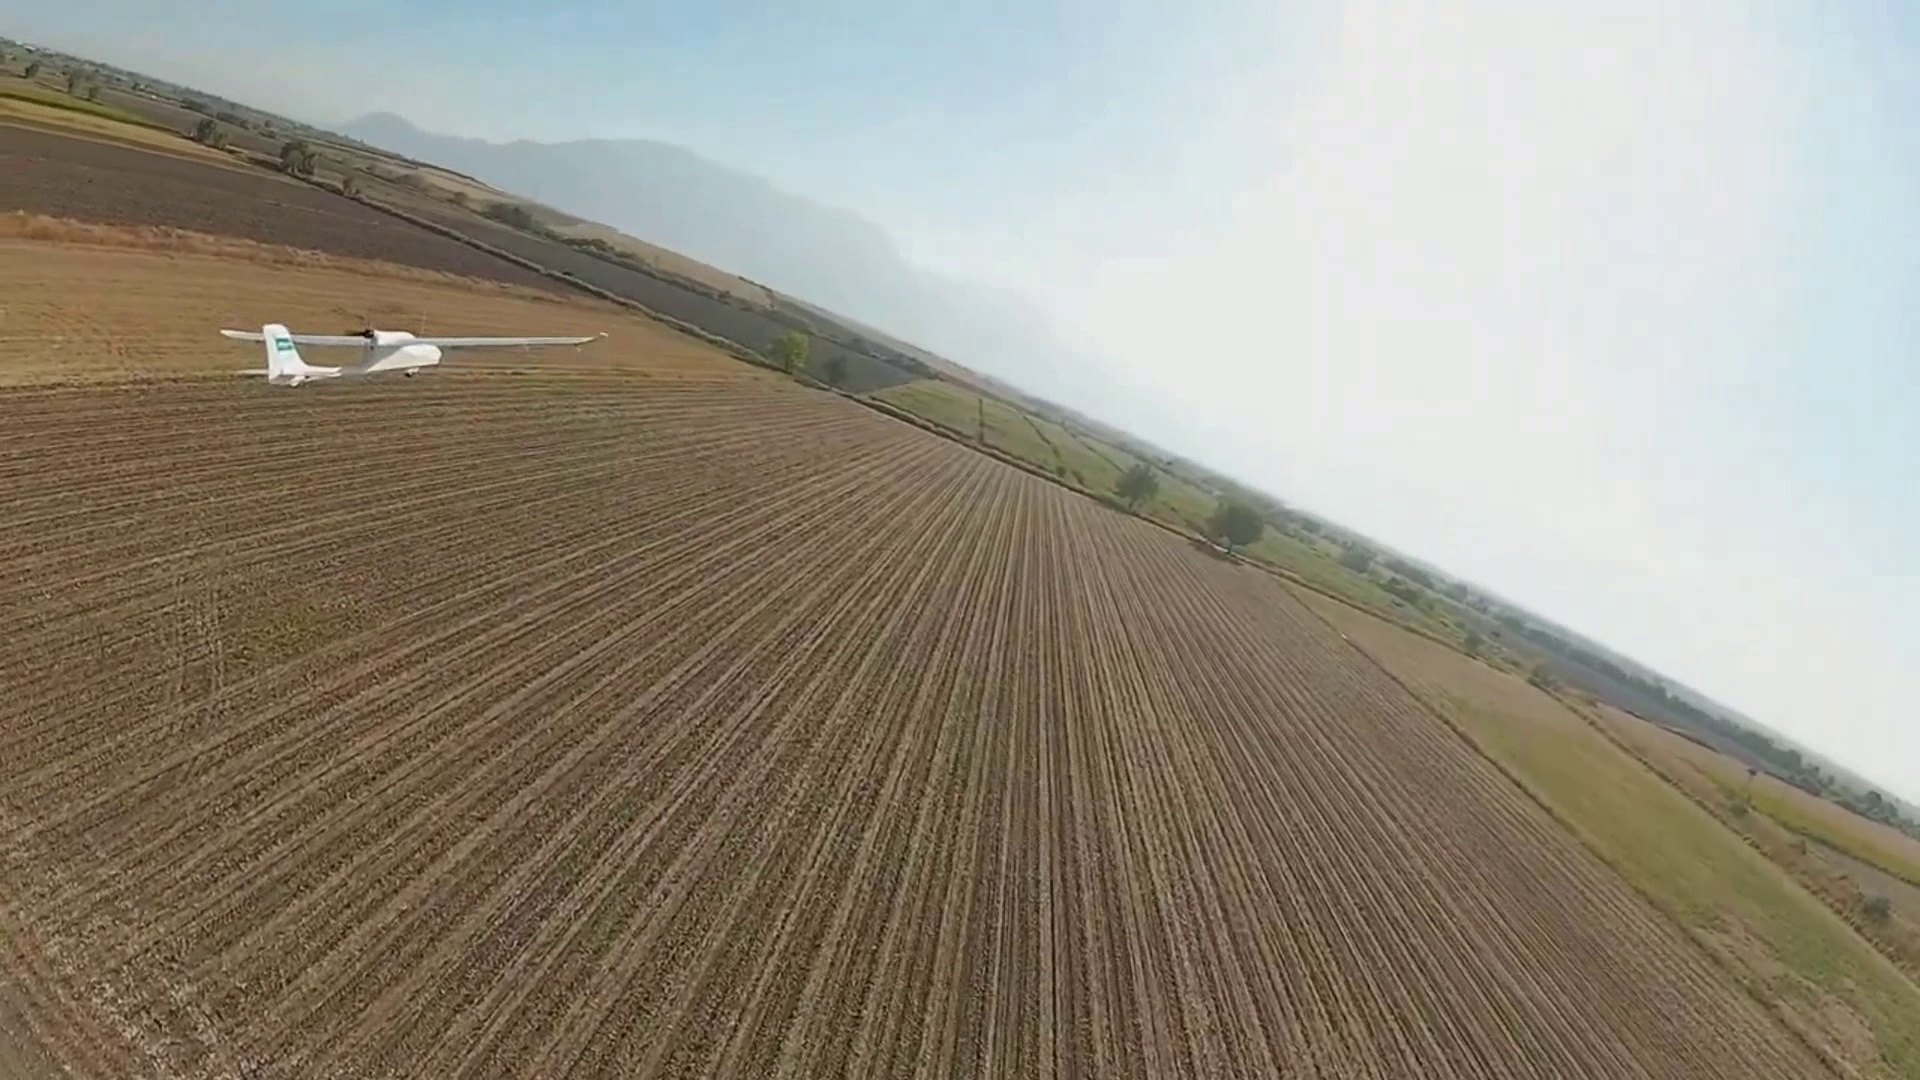airplane: (219, 320, 440, 385)
